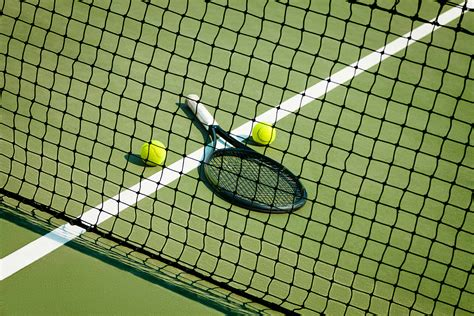tennis_ball: (140, 140, 166, 166), (252, 121, 276, 146)
